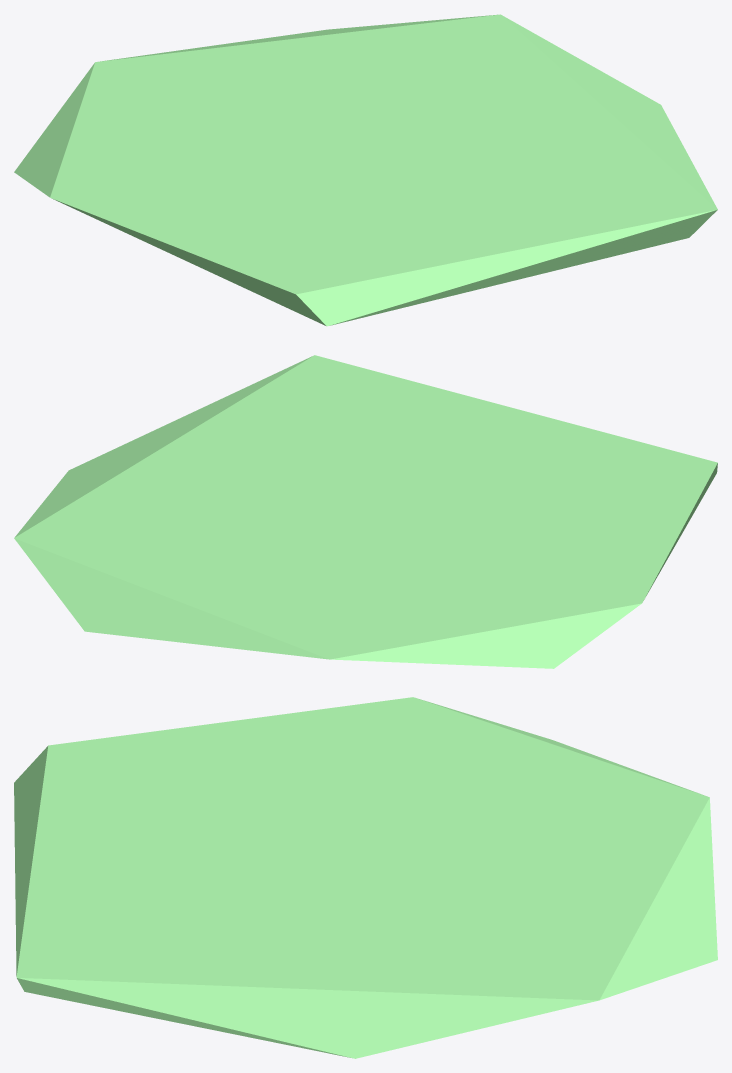
Rendered from linkhou_LR4_R560_link2_respondable_coll_2.dae.
3 renders of one model, top to bottom at view 1: azimuth 30°, elevation 25°; view 2: azimuth 150°, elevation 25°; view 3: azimuth 270°, elevation 25°, orthographic. The views are drawn at different scales.
Visible parts, largest first — view 1: Node_00000209DB3A90B0; view 2: Node_00000209DB3A90B0; view 3: Node_00000209DB3A90B0.
Boxes of the visible parts, bbox=[...] form: Node_00000209DB3A90B0: bbox=[14, 14, 717, 326]; Node_00000209DB3A90B0: bbox=[14, 355, 717, 668]; Node_00000209DB3A90B0: bbox=[14, 697, 717, 1058].
Bounding box in the file's own units: 0.0863 × 0.012 × 0.0787.
